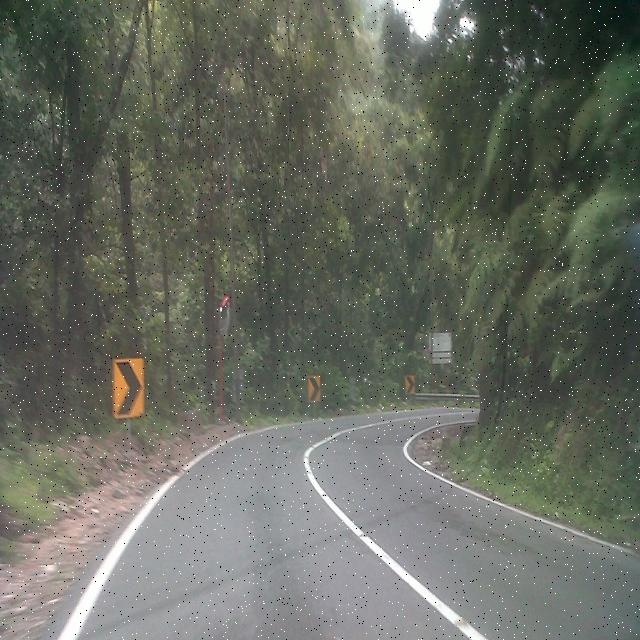chevron_right: (113, 359, 143, 422), (305, 373, 322, 403), (404, 371, 414, 400)
